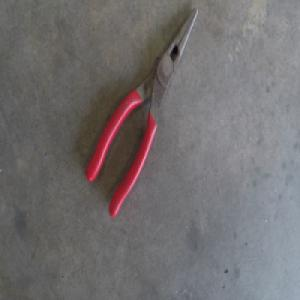Pliers: (87, 13, 197, 216)
